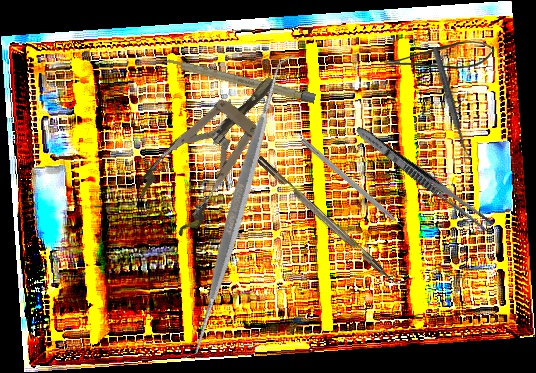Chopper: (256, 148, 409, 293), (295, 137, 412, 242)
Dressing Forceps: (352, 122, 496, 234)
Micro Scissor: (384, 40, 495, 69)
Scalpel Handle: (163, 56, 316, 104)
Spatula Surgical: (86, 54, 391, 360)
Speculum: (129, 55, 302, 242)
Surgical Spoon: (430, 46, 472, 162)
